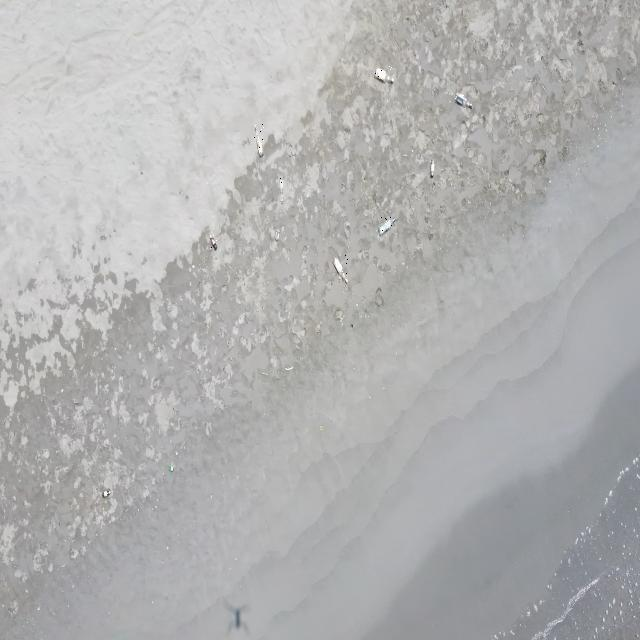glass: (332, 255, 348, 284), (378, 216, 396, 236), (374, 66, 394, 84), (254, 124, 264, 157), (456, 91, 474, 108), (209, 234, 218, 251), (279, 177, 284, 202), (430, 158, 435, 178), (102, 490, 111, 498), (168, 464, 174, 470)
